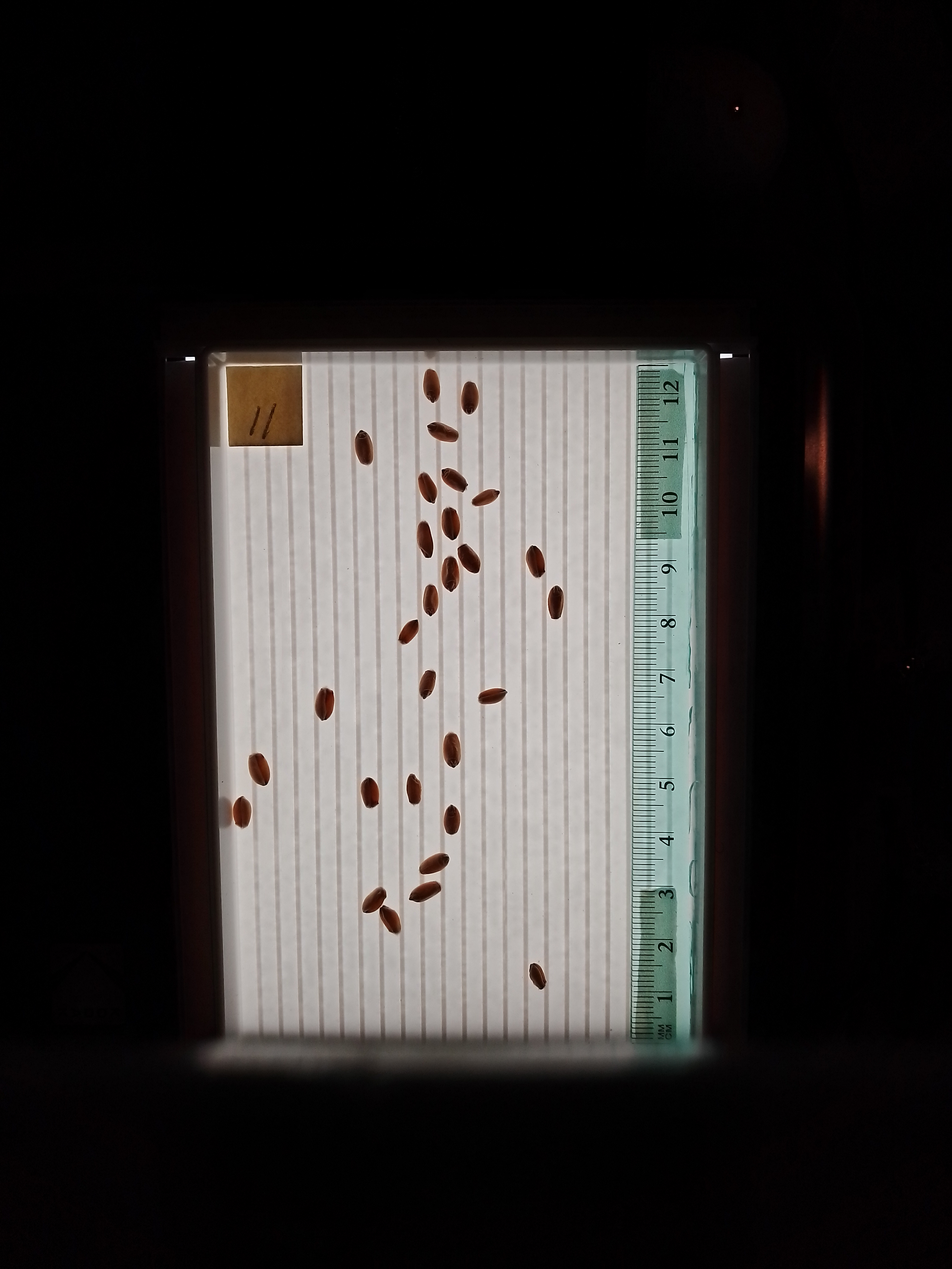seed mask: (248, 753, 270, 786), (427, 421, 458, 443), (410, 881, 441, 903), (314, 688, 335, 720), (354, 431, 373, 465), (458, 545, 480, 574), (362, 887, 386, 913), (441, 508, 460, 540), (442, 557, 459, 592), (461, 382, 479, 415), (443, 734, 461, 767), (526, 546, 545, 577), (233, 797, 252, 828), (420, 853, 448, 874), (442, 469, 467, 492), (418, 473, 437, 503), (361, 778, 380, 808), (423, 369, 440, 402), (548, 586, 564, 619), (418, 522, 433, 557), (380, 907, 400, 933), (423, 585, 439, 615), (399, 619, 418, 644), (473, 489, 499, 507), (406, 775, 422, 804), (444, 805, 460, 834), (529, 963, 546, 990), (419, 671, 436, 698), (479, 688, 505, 704)
